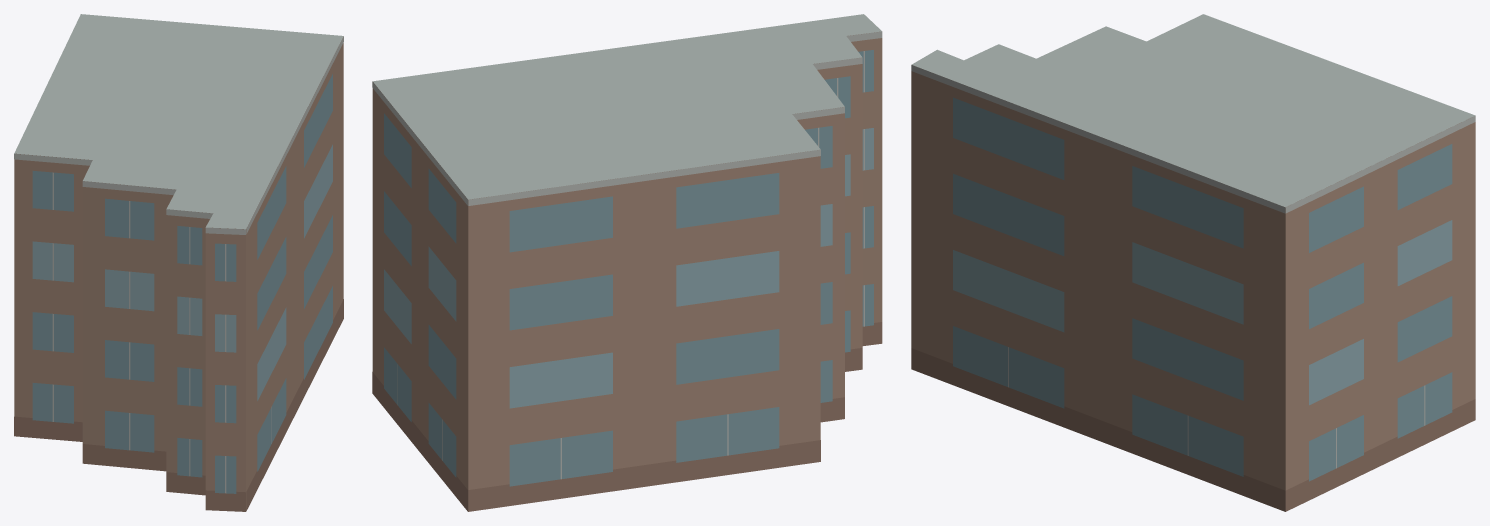
The model's file is survey-upis-33011804.glb.
The picture shows the model from 3 angles, left to right: view 1: azimuth 30°, elevation 25°; view 2: azimuth 150°, elevation 25°; view 3: azimuth 270°, elevation 25°; orthographic projection. The views are drawn at different scales.
Parts seen in each view (by area): view 1: survey-upis-33011804.tmp; view 2: survey-upis-33011804.tmp; view 3: survey-upis-33011804.tmp.
Part boxes in pixels (left/top/right/bottom): survey-upis-33011804.tmp: left=14, top=14, right=343, bottom=511; survey-upis-33011804.tmp: left=372, top=14, right=882, bottom=511; survey-upis-33011804.tmp: left=911, top=14, right=1475, bottom=511.
Bounding box in the file's own units: 15.94 × 11.7 × 19.65.
